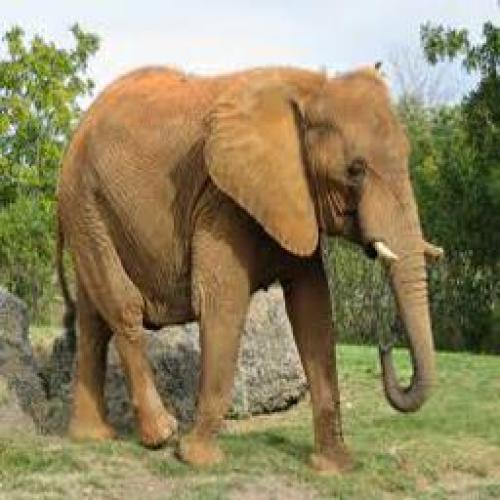african_elephant-endangered: (69, 66, 437, 466)
